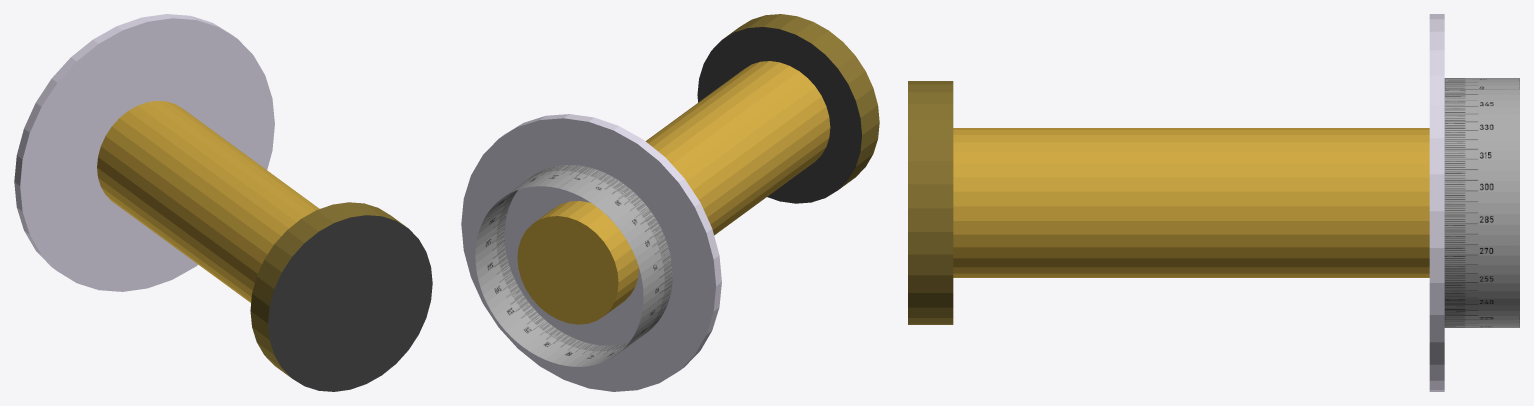
The model's file is Секция (Шкала №1) v4.fbx.
The picture shows the model from 3 angles, left to right: view 1: azimuth 30°, elevation 25°; view 2: azimuth 150°, elevation 25°; view 3: azimuth 270°, elevation 25°; orthographic projection. The views are drawn at different scales.
Parts seen in each view (by area): view 1: Часть перед шкалой.001, Секция Шкалы.001, Секция Шкалы (круги).001, Секция Шкалы (боковая сторона).001; view 2: Часть перед шкалой.001, Секция Шкалы.001, Шкала.001, Секция Шкалы (круги).001, Секция Шкалы (боковая сторона).001; view 3: Секция Шкалы.001, Шкала.001, Секция Шкалы (боковая сторона).001, Часть перед шкалой.001.
Part boxes in pixels (x1,y1,x2,y2): Часть перед шкалой.001: [14, 14, 274, 291]; Секция Шкалы.001: [97, 101, 319, 302]; Секция Шкалы (круги).001: [268, 215, 432, 391]; Секция Шкалы (боковая сторона).001: [250, 202, 405, 377]; Часть перед шкалой.001: [461, 114, 721, 391]; Секция Шкалы.001: [517, 61, 830, 324]; Шкала.001: [475, 165, 672, 366]; Секция Шкалы (круги).001: [697, 27, 861, 203]; Секция Шкалы (боковая сторона).001: [724, 14, 879, 189]; Секция Шкалы.001: [953, 128, 1429, 277]; Шкала.001: [1444, 78, 1519, 327]; Секция Шкалы (боковая сторона).001: [908, 81, 953, 324]; Часть перед шкалой.001: [1429, 14, 1444, 391].
Size of the model in its own units: 7.53 by 7.53 by 12.18.
5 materials, 1 textured.
